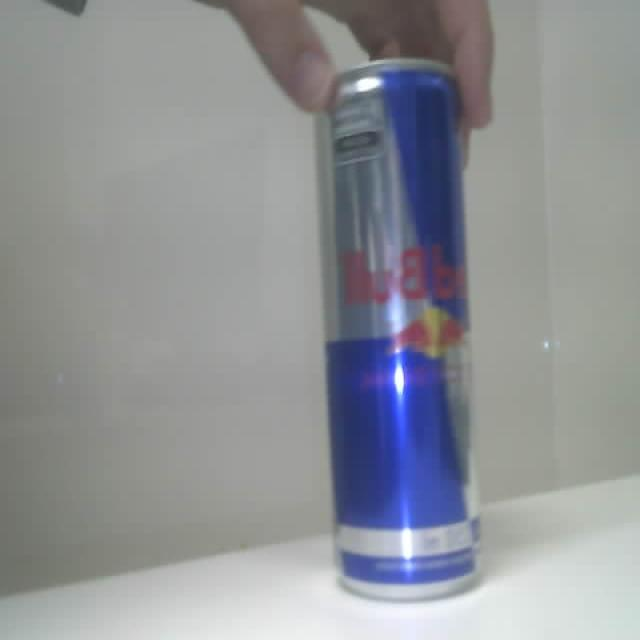redbull can: (317, 59, 478, 598)
